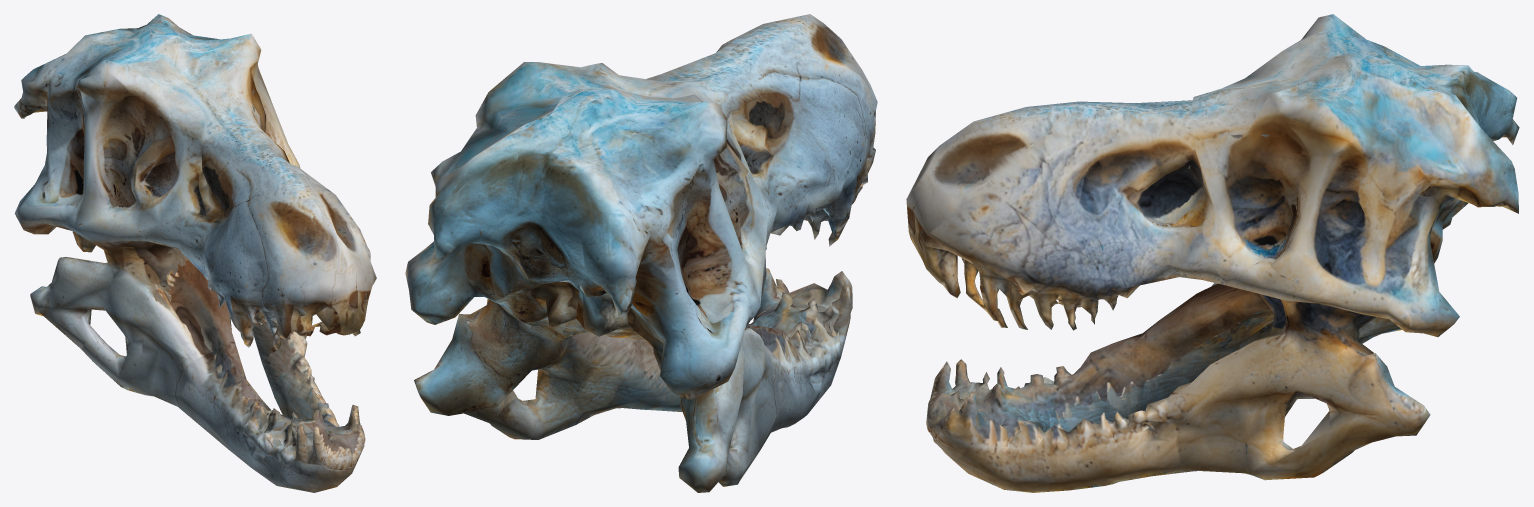
The model's file is rex.glb.
3 renders of one model, left to right at view 1: azimuth 30°, elevation 25°; view 2: azimuth 150°, elevation 25°; view 3: azimuth 270°, elevation 25°, orthographic. The views are drawn at different scales.
Size of the model in its own units: 0.6972 by 0.9095 by 1.2.
Materials: 1 (1 with a texture image).
